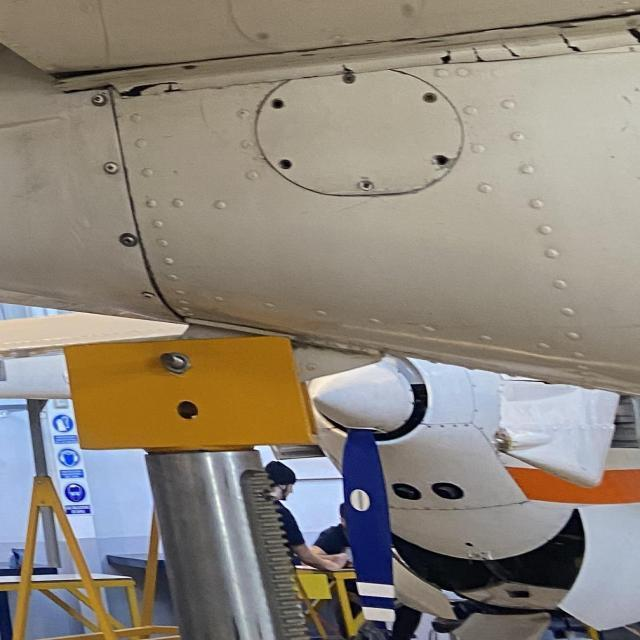Missing-head: (276, 156, 293, 172), (270, 98, 286, 110)
